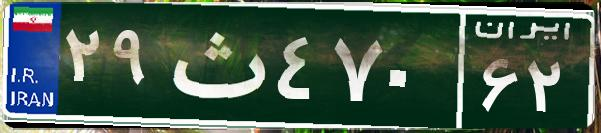0: (385, 28, 445, 110)
2: (57, 26, 110, 107), (525, 38, 570, 115)
4: (273, 28, 330, 110)
6: (475, 38, 525, 113)
7: (330, 28, 385, 110)
9: (110, 28, 158, 105)
ث: (158, 15, 273, 115)
